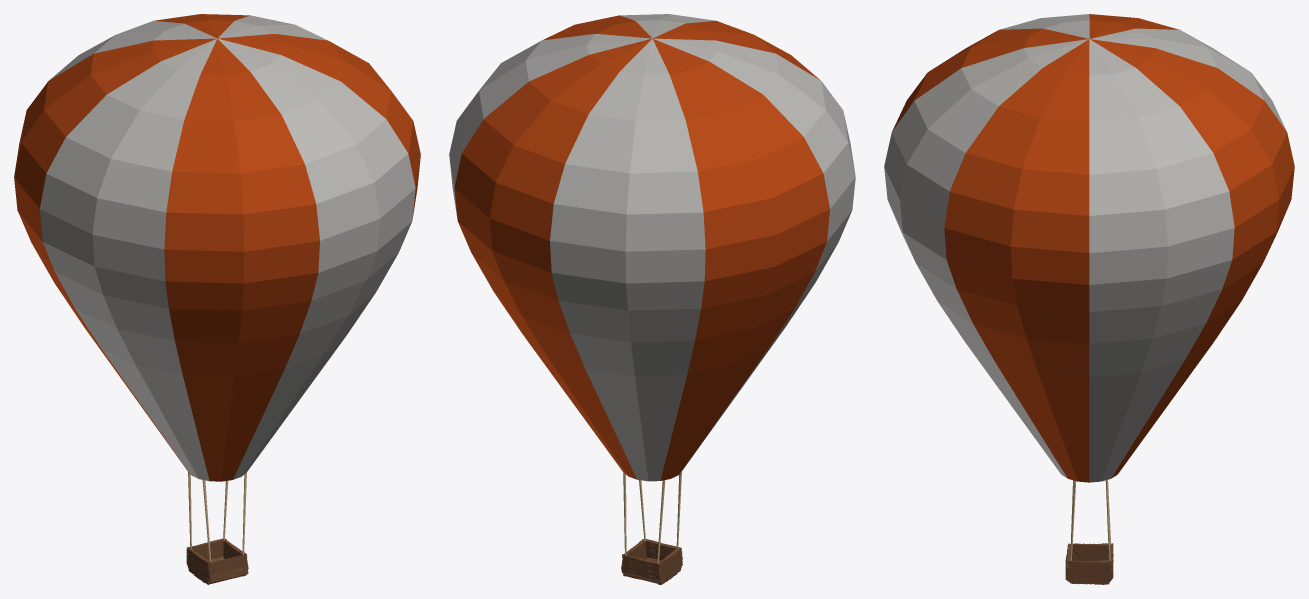
The model's file is Heißluftballon.fbx.
The picture shows the model from 3 angles, left to right: view 1: azimuth 30°, elevation 25°; view 2: azimuth 150°, elevation 25°; view 3: azimuth 270°, elevation 25°; orthographic projection.
Parts seen in each view (by area): view 1: Ballon; view 2: Ballon; view 3: Ballon.
Boxes of the visible parts, box(x1,y1,x2,y2) form: Ballon: box(14, 14, 420, 481); Ballon: box(449, 14, 855, 481); Ballon: box(884, 14, 1294, 482).
Bounding box in the file's own units: 1672 × 2411 × 1672.
